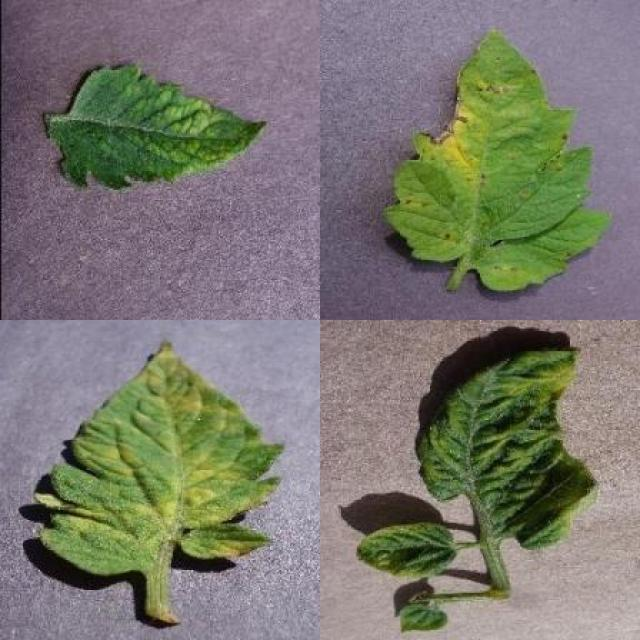Leaf Mold: (35, 342, 289, 578)
Mosaic Virus: (55, 64, 268, 194)
Septoria: (388, 30, 615, 293)
Yellow Leaf Curl Virus: (418, 350, 598, 550), (355, 524, 458, 580)
